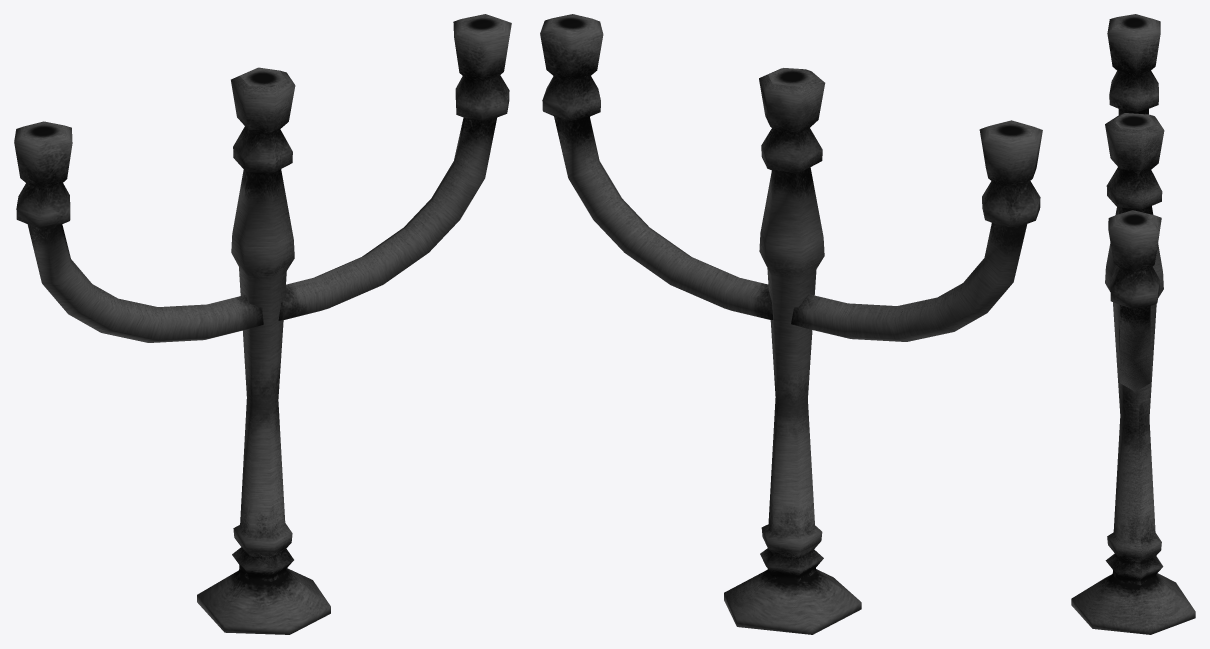
Rendered from Candleabra.FBX.
3 views of the same model, side by side, from view 1: azimuth 30°, elevation 25°; view 2: azimuth 150°, elevation 25°; view 3: azimuth 270°, elevation 25° (orthographic). The views are drawn at different scales.
Parts seen in each view (by area): view 1: candleabra; view 2: candleabra; view 3: candleabra.
Part boxes in pixels (x1,y1,x2,y2): candleabra: [14, 14, 511, 634]; candleabra: [540, 14, 1042, 634]; candleabra: [1071, 14, 1195, 634].
Bounding box in the file's own units: 24.32 × 24.86 × 5.75.
1 material, 1 textured.
